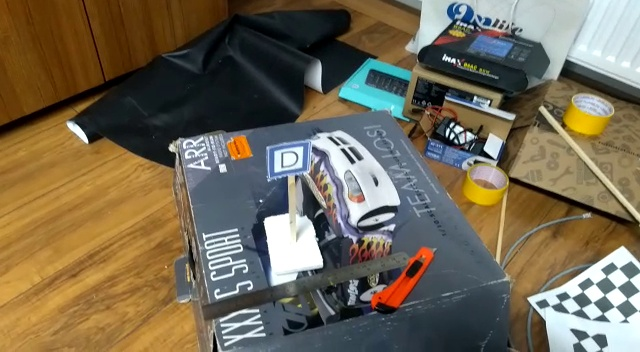durak: (267, 140, 310, 176)
